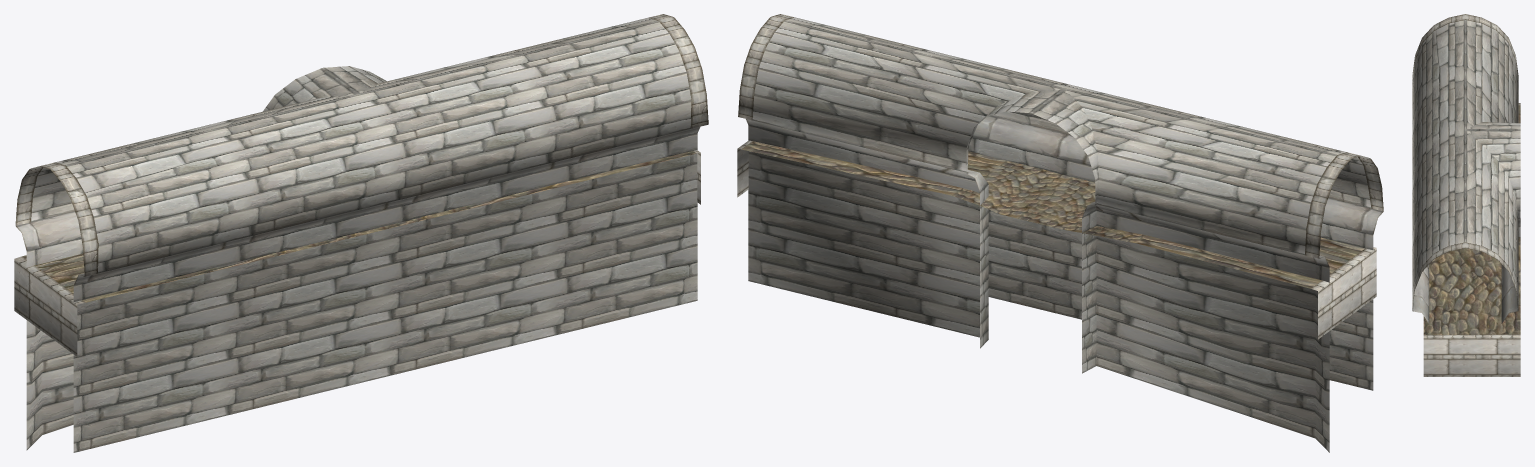
The model's file is stormwind_236.fbx.
3 views of the same model, side by side, from view 1: azimuth 30°, elevation 25°; view 2: azimuth 150°, elevation 25°; view 3: azimuth 270°, elevation 25° (orthographic). The views are drawn at different scales.
Visible parts, largest first — view 1: stormwind_236_4, stormwind_236_11, stormwind_236_5, stormwind_236_40, stormwind_236_46; view 2: stormwind_236_4, stormwind_236_46, stormwind_236_11, stormwind_236_5, stormwind_236_40; view 3: stormwind_236_4, stormwind_236_46, stormwind_236_40, stormwind_236_5, stormwind_236_11.
Boxes of the visible parts, <box> form: stormwind_236_4: <box>26,18,697,452</box>; stormwind_236_11: <box>16,127,700,285</box>; stormwind_236_5: <box>15,14,708,276</box>; stormwind_236_40: <box>14,150,700,356</box>; stormwind_236_46: <box>22,151,695,302</box>; stormwind_236_4: <box>748,17,1373,452</box>; stormwind_236_46: <box>742,141,1364,288</box>; stormwind_236_11: <box>746,115,1383,266</box>; stormwind_236_5: <box>738,14,1383,258</box>; stormwind_236_40: <box>737,140,1376,339</box>; stormwind_236_4: <box>1412,20,1520,303</box>; stormwind_236_46: <box>1423,105,1520,334</box>; stormwind_236_40: <box>1423,103,1520,376</box>; stormwind_236_5: <box>1412,14,1518,308</box>; stormwind_236_11: <box>1412,218,1520,323</box>.
Bounding box in the file's own units: 82.57 × 37.76 × 16.19.
